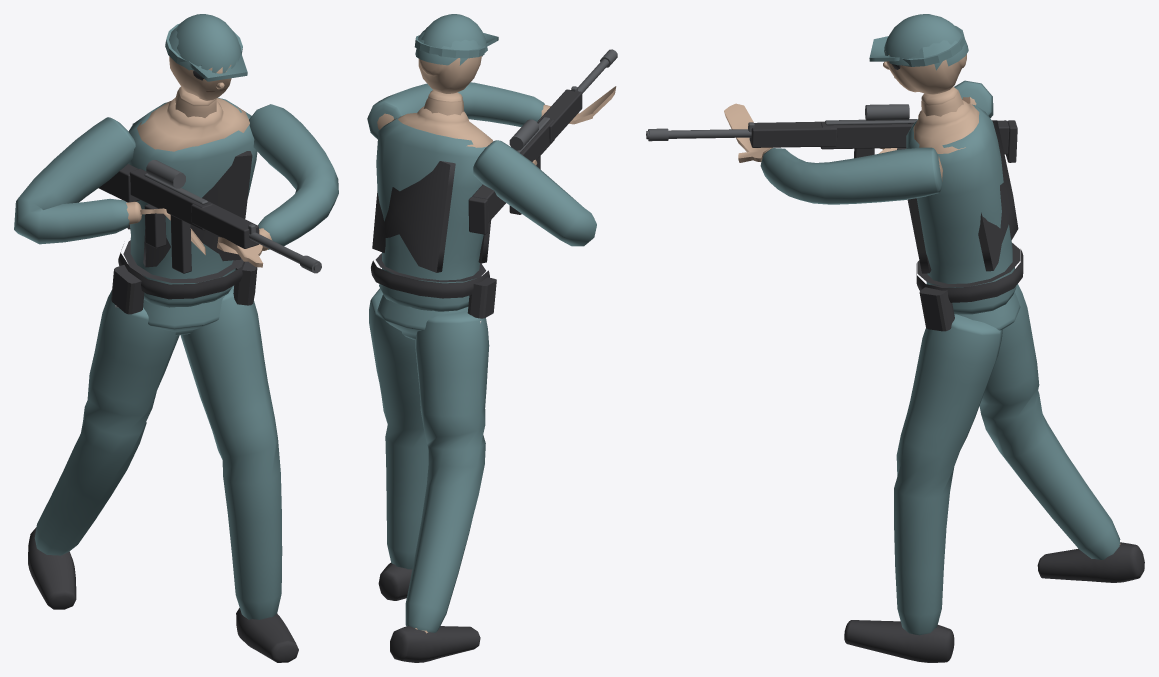
Rendered from tactical-shooter-hill-town-patrol-officer-standing-aim-5f18d932__27563.glb.
3 renders of one model, left to right at view 1: azimuth 30°, elevation 25°; view 2: azimuth 150°, elevation 25°; view 3: azimuth 270°, elevation 25°, orthographic. The views are drawn at different scales.
Parts seen in each view (by area): view 1: patrol-officer-standing-aim; view 2: patrol-officer-standing-aim; view 3: patrol-officer-standing-aim.
Part boxes in pixels (x1,y1,x2,y2): patrol-officer-standing-aim: [14, 14, 338, 662]; patrol-officer-standing-aim: [367, 14, 617, 662]; patrol-officer-standing-aim: [646, 14, 1144, 662].
Size of the model in its own units: 0.7501 by 1.75 by 1.28.
